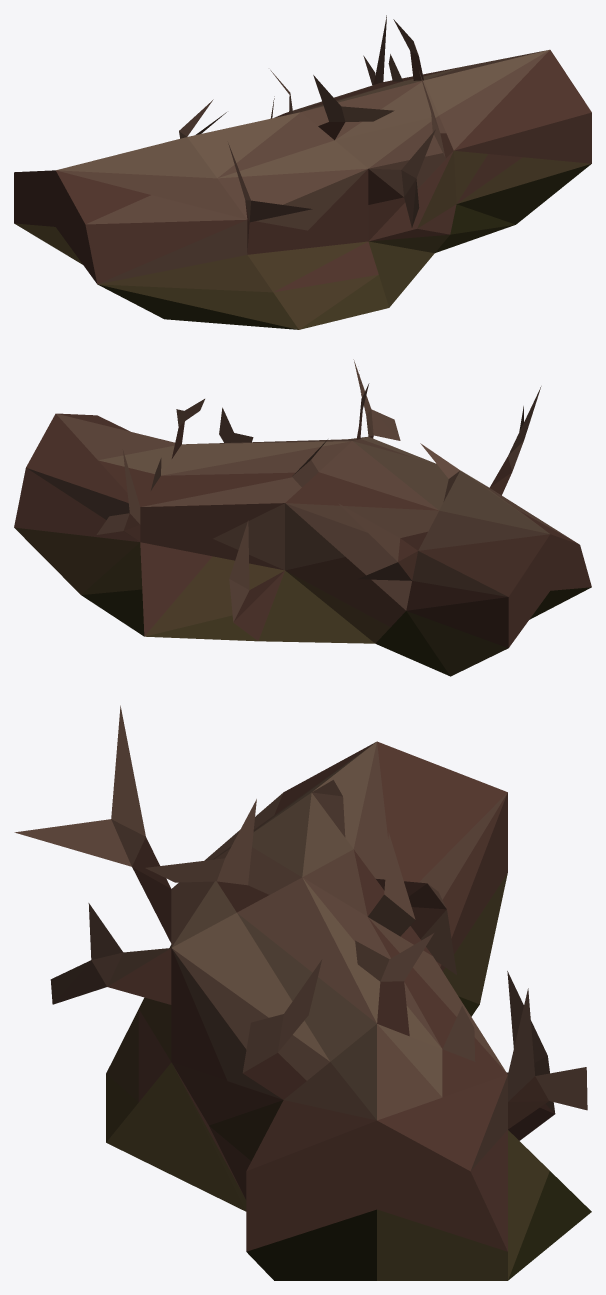
The model's file is beaverDam.fbx.
3 views of the same model, one above another, from view 1: azimuth 30°, elevation 25°; view 2: azimuth 150°, elevation 25°; view 3: azimuth 270°, elevation 25° (orthographic). The views are drawn at different scales.
Parts seen in each view (by area): view 1: dam, sticks; view 2: dam, sticks; view 3: dam, sticks.
Boxes of the visible parts, x1,y1,x2,y2 form: dam: (14,49,591,329); sticks: (179,15,453,252); dam: (14,413,591,676); sticks: (96,359,541,640); dam: (106,741,591,1280); sticks: (14,705,587,1140).
Bounding box in the file's own units: 600 × 238 × 387.
Materials: 1 (1 with a texture image).
